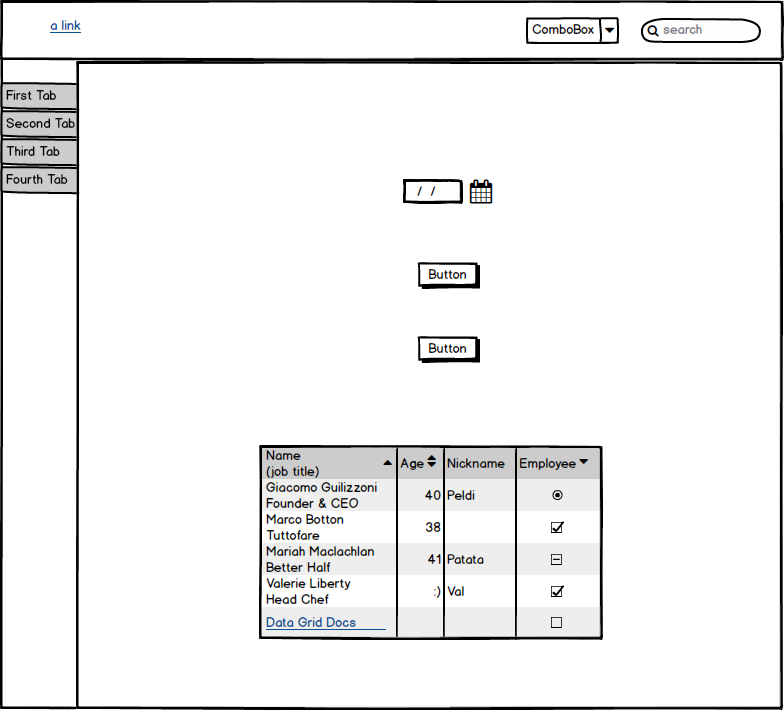button: (413, 332, 485, 368), (415, 259, 485, 293)
date_picker: (396, 173, 497, 208)
navlink: (44, 16, 88, 37)
search: (636, 12, 765, 48)
select_box: (521, 13, 623, 48)
sidebar: (1, 76, 85, 202)
table: (252, 440, 607, 645)
